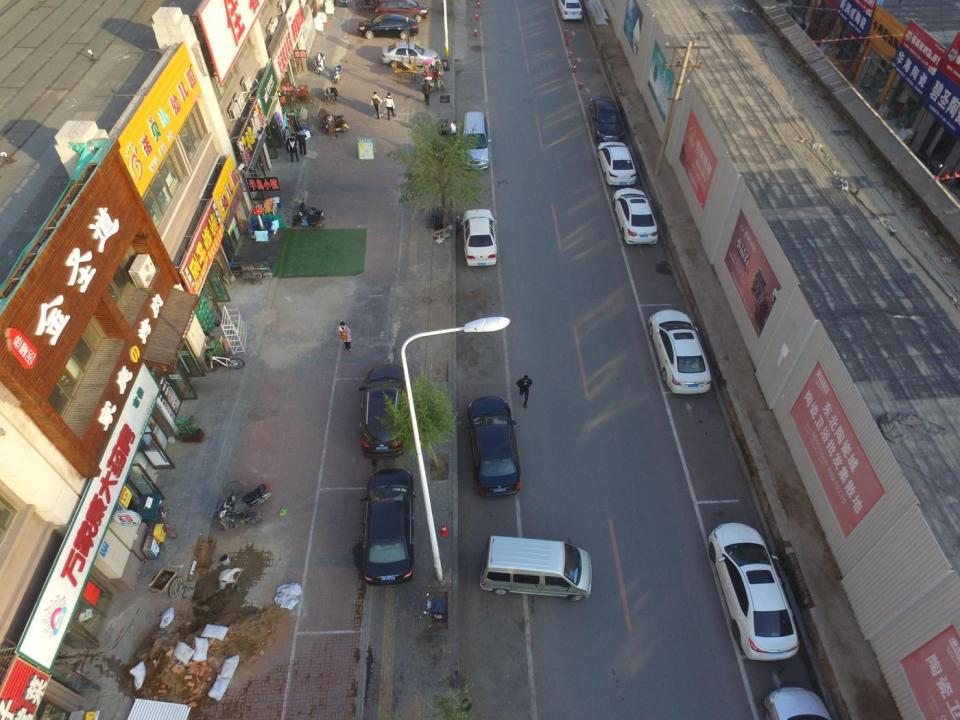car: (706, 521, 800, 663), (360, 468, 417, 586), (465, 395, 522, 498), (646, 308, 712, 396), (358, 363, 411, 459), (610, 186, 659, 246), (460, 208, 497, 267), (458, 110, 492, 171), (595, 139, 637, 187), (588, 93, 625, 145), (380, 41, 440, 70), (357, 12, 419, 40), (375, 0, 430, 23), (556, 1, 584, 21)
van: (478, 533, 592, 603)
